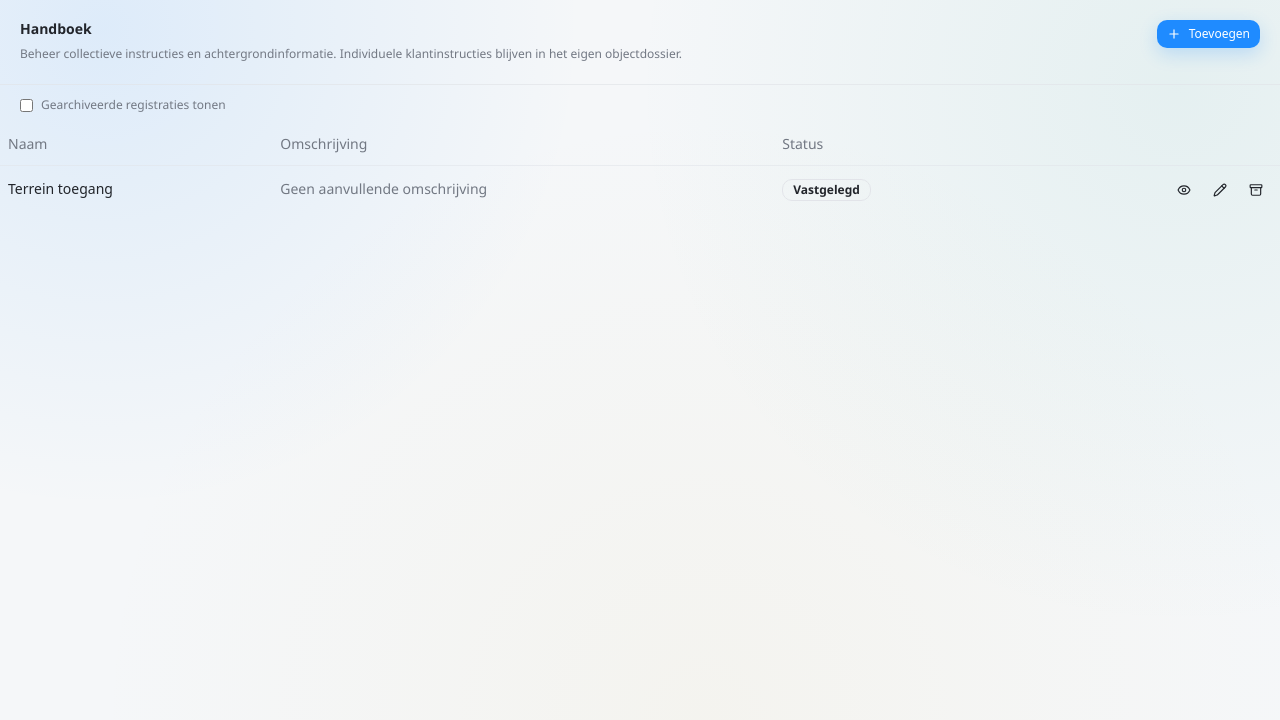
Scenario: collectiefkaart › toont opgeslagen dossierinhoud alleen-lezen zonder een mutatie
Click the button named "Terrein toegang bekijken".
click(1184, 190)  # box x1=1168 y1=174 x2=1200 y2=206
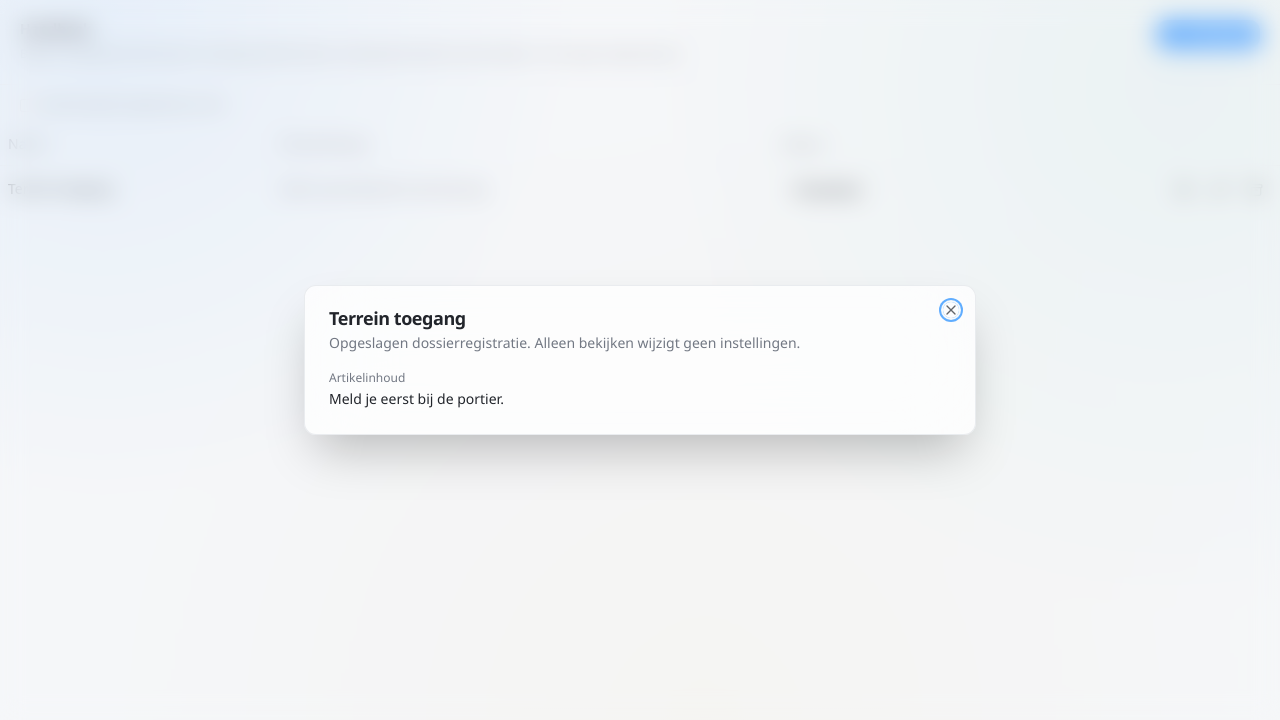
Check: the dialog shows "Meld je eerst bij de portier.", box x1=329 y1=390 x2=504 y2=409
